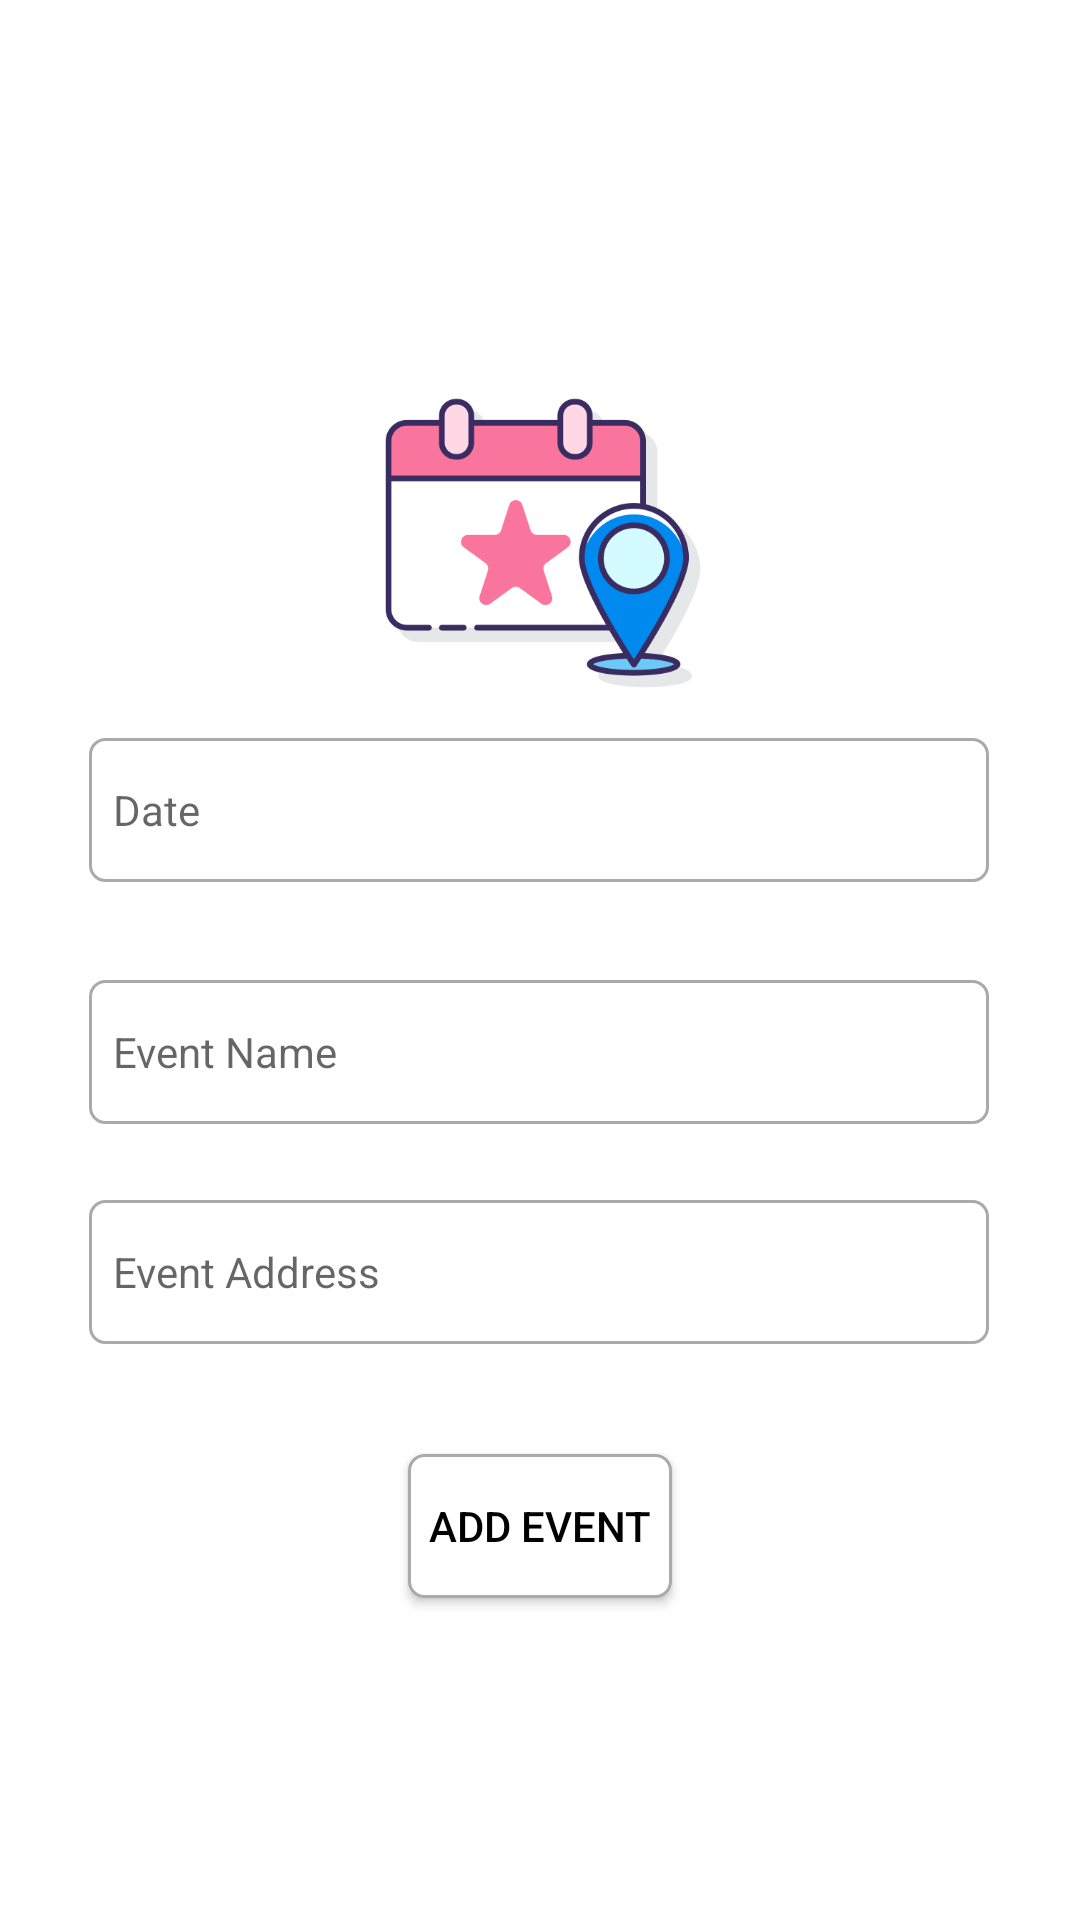

Named icons in this screenshot (1080x1920) and their centers, (x=x, y=y):
event: (x=542, y=542)
